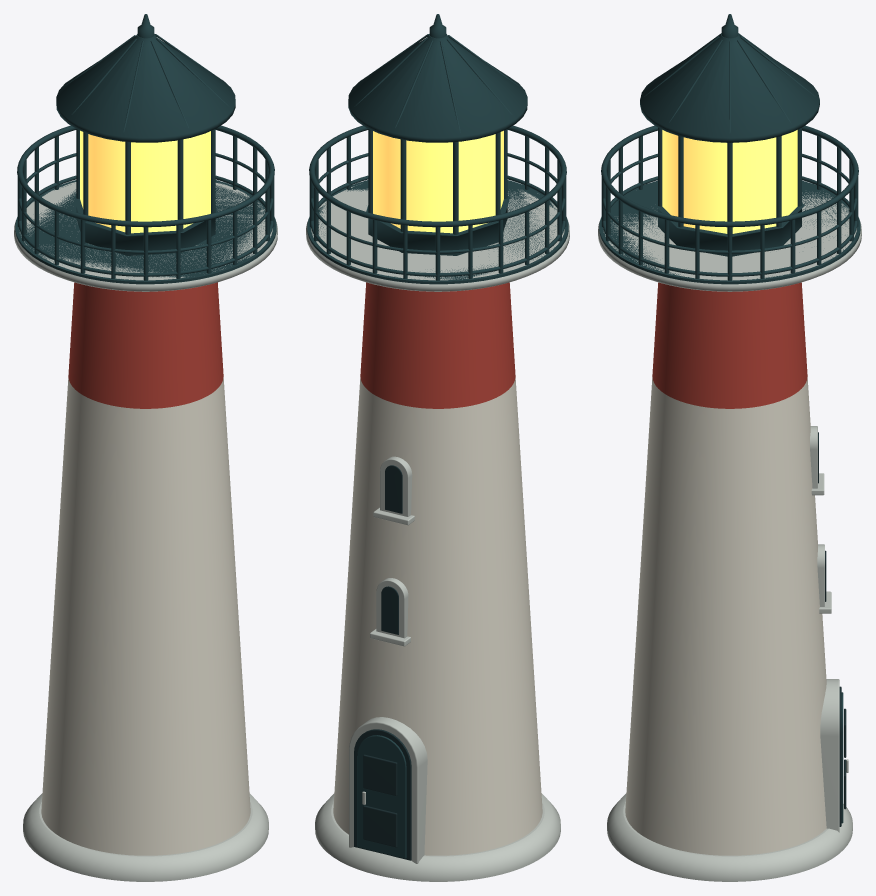
Rendered from d01_lighthouse_01.glb.
3 renders of one model, left to right at view 1: azimuth 30°, elevation 25°; view 2: azimuth 150°, elevation 25°; view 3: azimuth 270°, elevation 25°, orthographic.
Visible parts, largest first — view 1: D01Lighthouse01_Mesh; view 2: D01Lighthouse01_Mesh; view 3: D01Lighthouse01_Mesh.
Boxes of the visible parts, <box> form: D01Lighthouse01_Mesh: <box>14,14,277,881</box>; D01Lighthouse01_Mesh: <box>306,14,569,881</box>; D01Lighthouse01_Mesh: <box>598,14,861,881</box>.
Size of the model in its own units: 4.4 by 15 by 4.4.
